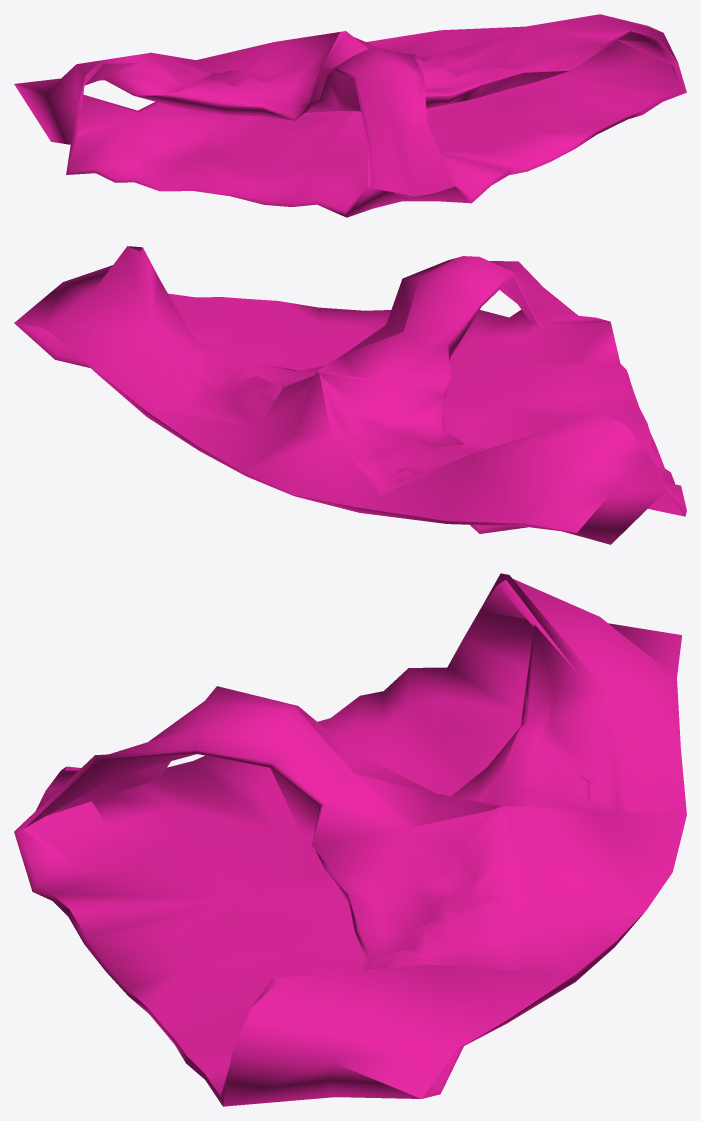
The model's file is Panties.fbx.
3 views of the same model, one above another, from view 1: azimuth 30°, elevation 25°; view 2: azimuth 150°, elevation 25°; view 3: azimuth 270°, elevation 25° (orthographic). The views are drawn at different scales.
Parts seen in each view (by area): view 1: Plane.007; view 2: Plane.007; view 3: Plane.007.
Boxes of the visible parts, x1,y1,x2,y2 form: Plane.007: (14,14,686,217); Plane.007: (14,246,686,544); Plane.007: (14,573,686,1106).
Size of the model in its own units: 29.79 by 5.43 by 18.8.
